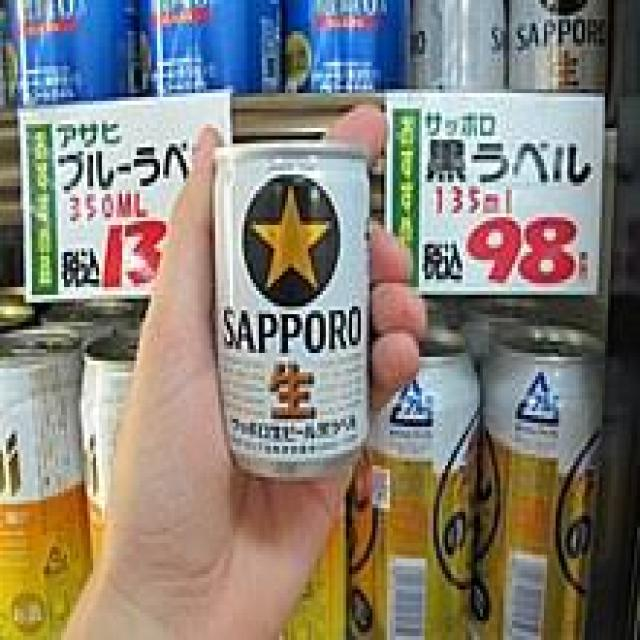Cans: (210, 132, 381, 481)
